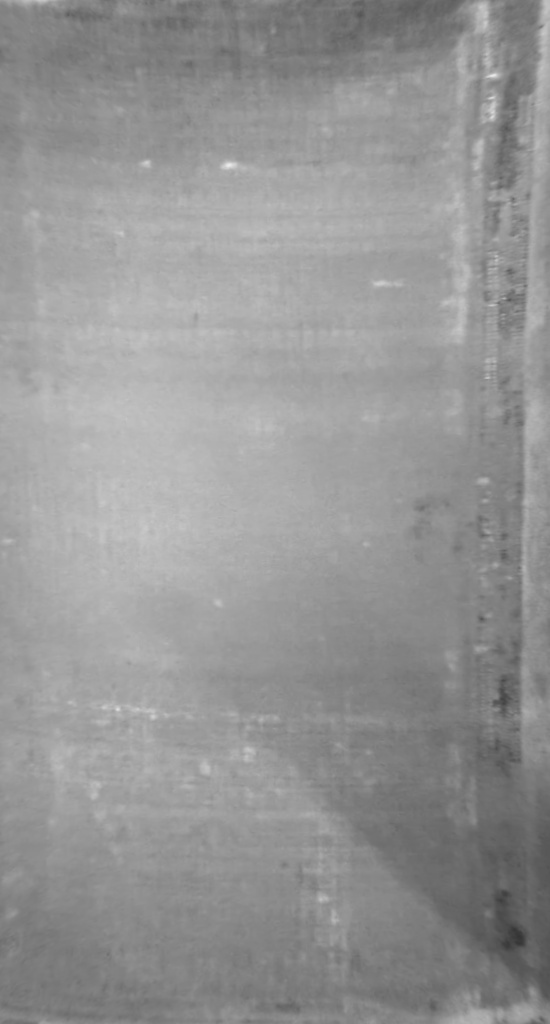splice: (447, 1, 544, 1022)
